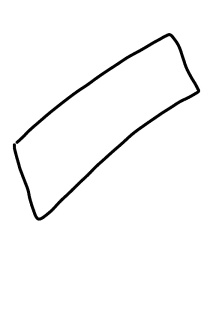Square: (10, 31, 204, 224)
